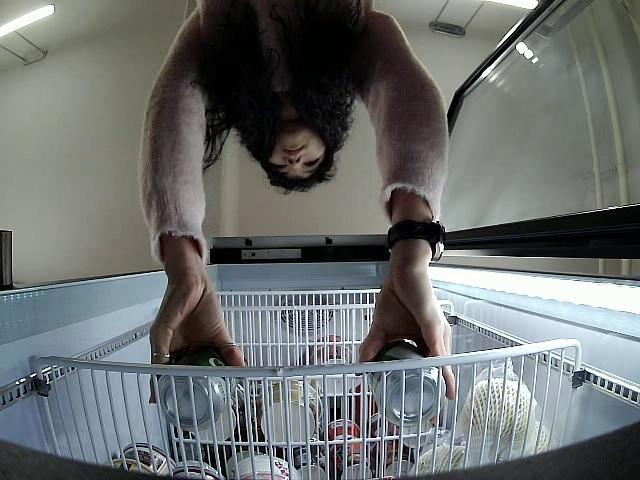12_chilsungCider: (366, 342, 447, 428), (156, 350, 238, 428)
